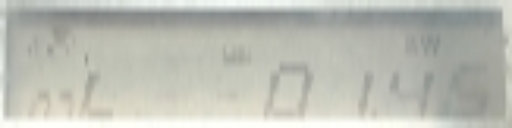0: (263, 56, 314, 120)
1: (351, 64, 374, 122)
4: (388, 65, 433, 119)
5: (446, 53, 495, 128)
d: (369, 102, 383, 117)
